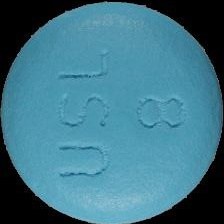54868-0097: (0, 0, 224, 224)
